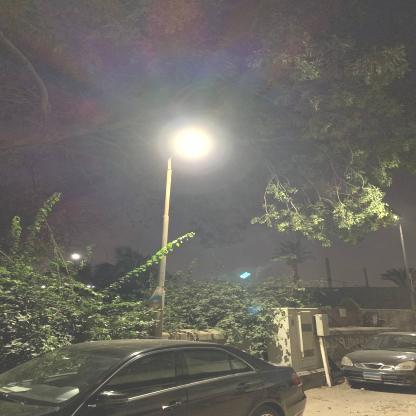light_pole: (153, 137, 202, 340)
